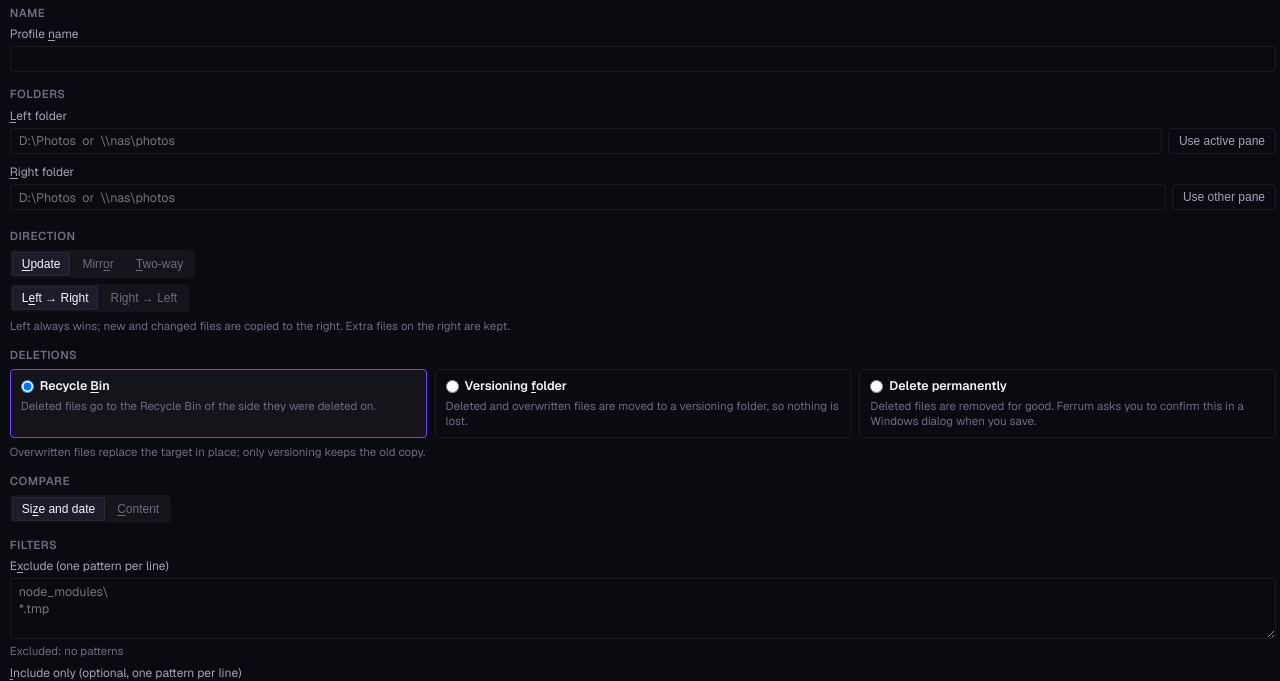
Scenario: SyncProfileEditor › "Use active pane" fills the left root and the inactive pane fills the right root (SP-9.2)
The width and height of the screenshot is (1280, 681).
Click the button "Use active pane".
click(1222, 141)  # box [1168, 128, 1276, 154]
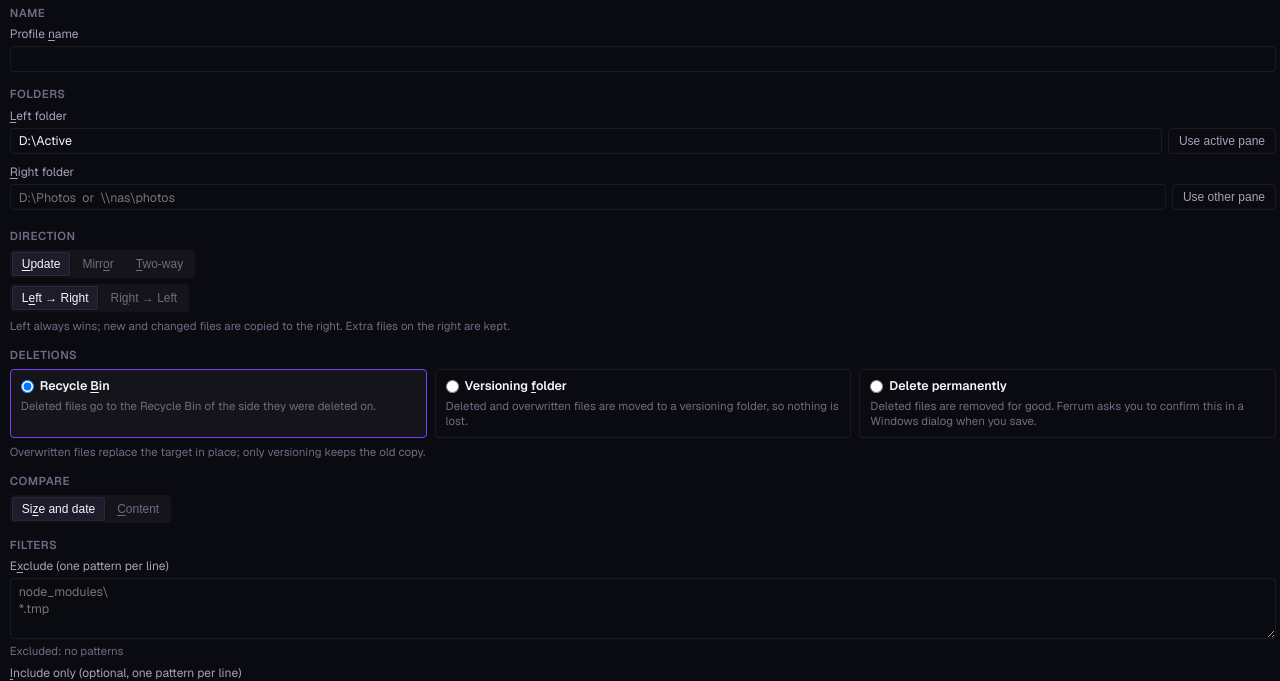
Click the button "Use other pane".
click(1224, 197)  # box [1172, 184, 1276, 210]
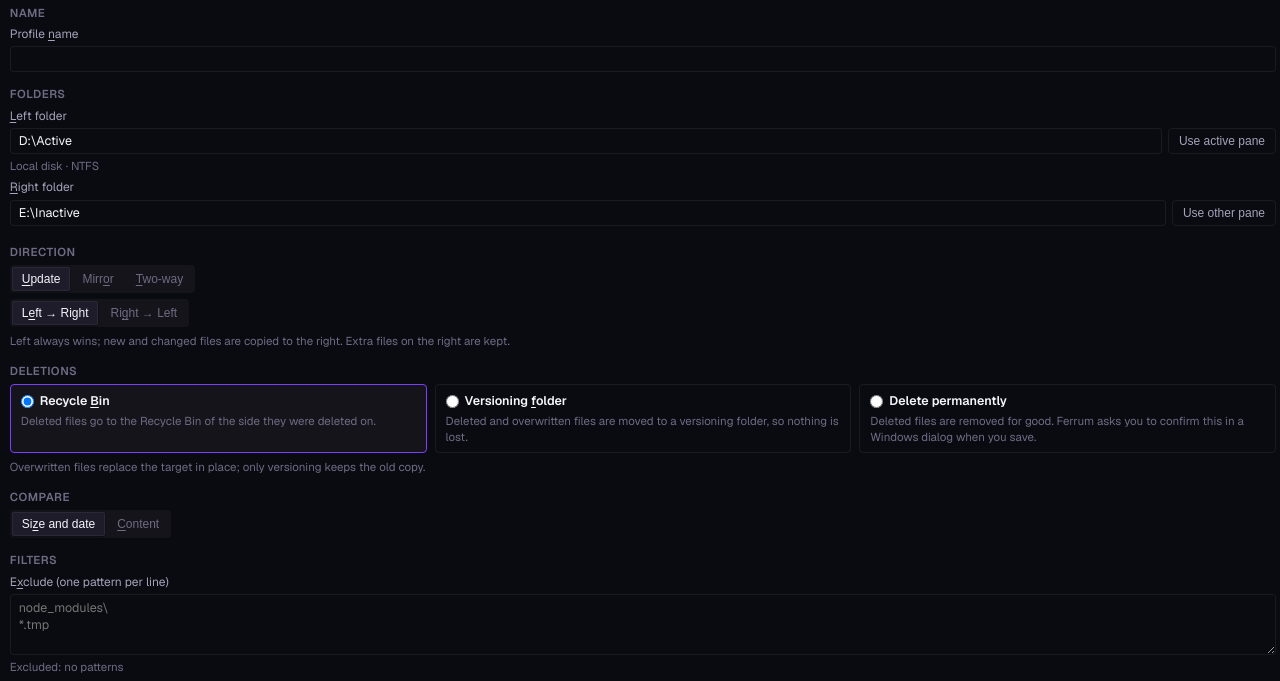
Now the field labelled "Left folder" holds "D:\\Active", box [10, 128, 1162, 154]
Now the field labelled "Right folder" holds "E:\\Inactive", box [10, 200, 1166, 226]
